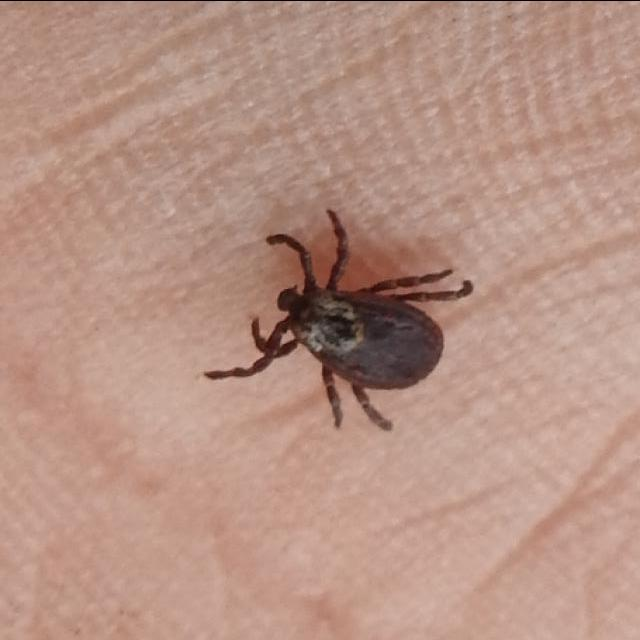Dermacentor Reticulatus-F: (203, 207, 474, 430)
